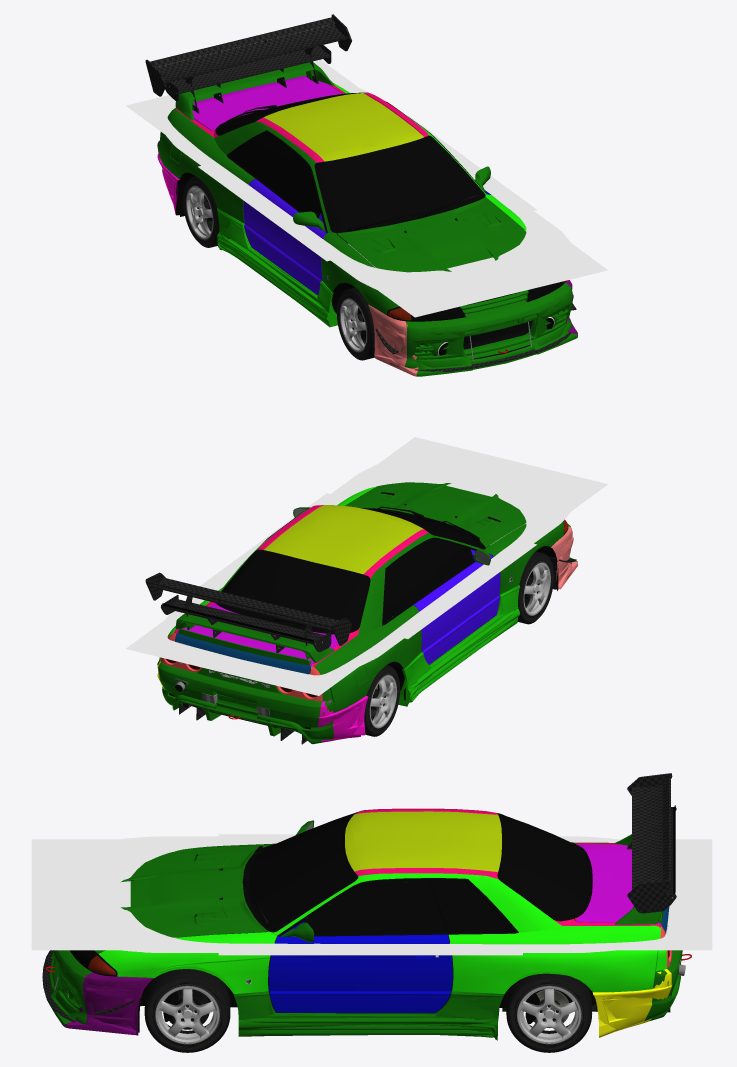
The model's file is skyline_32.fbx.
The picture shows the model from 3 angles, top to bottom: view 1: azimuth 30°, elevation 25°; view 2: azimuth 150°, elevation 25°; view 3: azimuth 270°, elevation 25°; orthographic projection. The views are drawn at different scales.
Parts seen in each view (by area): view 1: nis_skylinegtr_93_body_body_, neon (×4), shadow, nis_skylinegtr_93_glassF_window_, nis_skylinegtr_93_bumperFc_body_, nis_skylinegtr_93_wingc_carbon_fiber_, nis_skylinegtr_93_hoodg_body_, nis_skylinegtr_93_trunk_body_, nis_skylinegtr_93_wingrace_carbon_fiber_, nis_skylinegtr_93_bumperFd_body_, nis_skylinegtr_93_glassRF_window_, nis_skylinegtr_93_hooda_body_ (+16 smaller); view 2: nis_skylinegtr_93_body_body_, neon (×4), nis_skylinegtr_93_glassR_window_, nis_skylinegtr_93_bumperRc_body_, shadow, nis_skylinegtr_93_hoodg_body_, nis_skylinegtr_93_wingc_carbon_fiber_, nis_skylinegtr_93_glassRF_window_, nis_skylinegtr_93_trunk_body_, nis_skylinegtr_93_bumperRd_body_, nis_skylinegtr_93_wingrace_carbon_fiber_, nis_skylinegtr_93_wheel_rim_ (×2) (+14 smaller); view 3: nis_skylinegtr_93_body_body_, neon (×4), shadow, nis_skylinegtr_93_glassF_window_, nis_skylinegtr_93_hoodg_body_, nis_skylinegtr_93_wheel_tire_ (×2), nis_skylinegtr_93_glassLF_window_, nis_skylinegtr_93_glassR_window_, nis_skylinegtr_93_wingc_carbon_fiber_, nis_skylinegtr_93_wheel_rim_ (×2), nis_skylinegtr_93_skirtLc_body_, nis_skylinegtr_93_trunk_body_ (+19 smaller).
Boxes of the visible parts, x1,y1,x2,y2 form: nis_skylinegtr_93_body_body_: [159, 83, 526, 315]; neon (×4): [126, 59, 607, 317]; shadow: [163, 81, 573, 299]; nis_skylinegtr_93_glassF_window_: [317, 139, 480, 228]; nis_skylinegtr_93_bumperFc_body_: [369, 280, 577, 376]; nis_skylinegtr_93_wingc_carbon_fiber_: [145, 14, 351, 113]; nis_skylinegtr_93_hoodg_body_: [369, 209, 522, 272]; nis_skylinegtr_93_trunk_body_: [192, 75, 341, 130]; nis_skylinegtr_93_wingrace_carbon_fiber_: [165, 45, 331, 103]; nis_skylinegtr_93_bumperFd_body_: [373, 282, 572, 368]; nis_skylinegtr_93_glassRF_window_: [258, 145, 320, 218]; nis_skylinegtr_93_hooda_body_: [338, 197, 526, 270]; nis_skylinegtr_93_body_body_: [159, 487, 563, 712]; neon (×4): [126, 437, 607, 695]; nis_skylinegtr_93_glassR_window_: [222, 553, 366, 629]; nis_skylinegtr_93_bumperRc_body_: [157, 659, 368, 744]; shadow: [165, 455, 572, 665]; nis_skylinegtr_93_hoodg_body_: [370, 482, 522, 529]; nis_skylinegtr_93_wingc_carbon_fiber_: [145, 572, 351, 658]; nis_skylinegtr_93_glassRF_window_: [403, 540, 473, 602]; nis_skylinegtr_93_trunk_body_: [175, 603, 338, 674]; nis_skylinegtr_93_bumperRd_body_: [157, 659, 367, 739]; nis_skylinegtr_93_wingrace_carbon_fiber_: [161, 595, 331, 652]; nis_skylinegtr_93_wheel_rim_ (×2): [369, 562, 550, 728]; nis_skylinegtr_93_body_body_: [98, 808, 672, 1012]; neon (×4): [31, 834, 712, 955]; shadow: [53, 836, 683, 952]; nis_skylinegtr_93_glassF_window_: [255, 814, 353, 926]; nis_skylinegtr_93_hoodg_body_: [97, 853, 267, 953]; nis_skylinegtr_93_wheel_tire_ (×2): [144, 969, 592, 1052]; nis_skylinegtr_93_glassLF_window_: [304, 882, 446, 934]; nis_skylinegtr_93_glassR_window_: [503, 815, 586, 915]; nis_skylinegtr_93_wingc_carbon_fiber_: [627, 773, 672, 912]; nis_skylinegtr_93_wheel_rim_ (×2): [156, 985, 581, 1044]; nis_skylinegtr_93_skirtLc_body_: [235, 991, 499, 1040]; nis_skylinegtr_93_trunk_body_: [575, 844, 669, 932].
Bounding box in the file's own units: 4 × 1.39 × 5.13.
